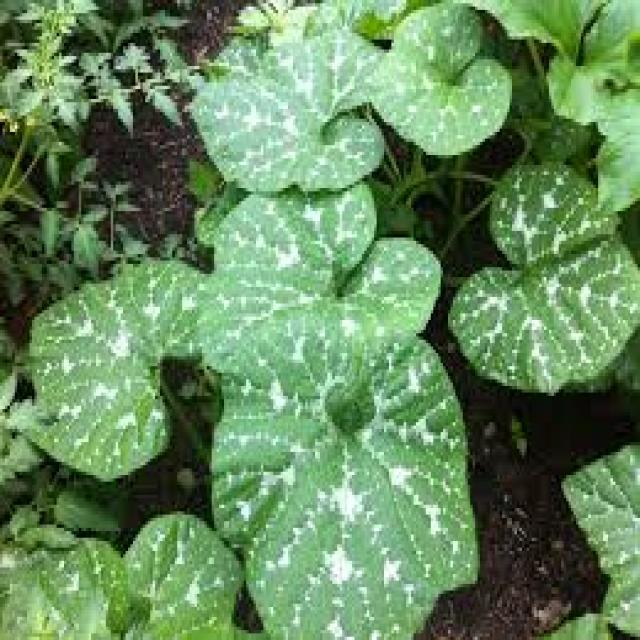powdery-mildew: (519, 195, 606, 359), (325, 452, 376, 639), (251, 353, 304, 532), (213, 74, 334, 152), (84, 310, 145, 428)
